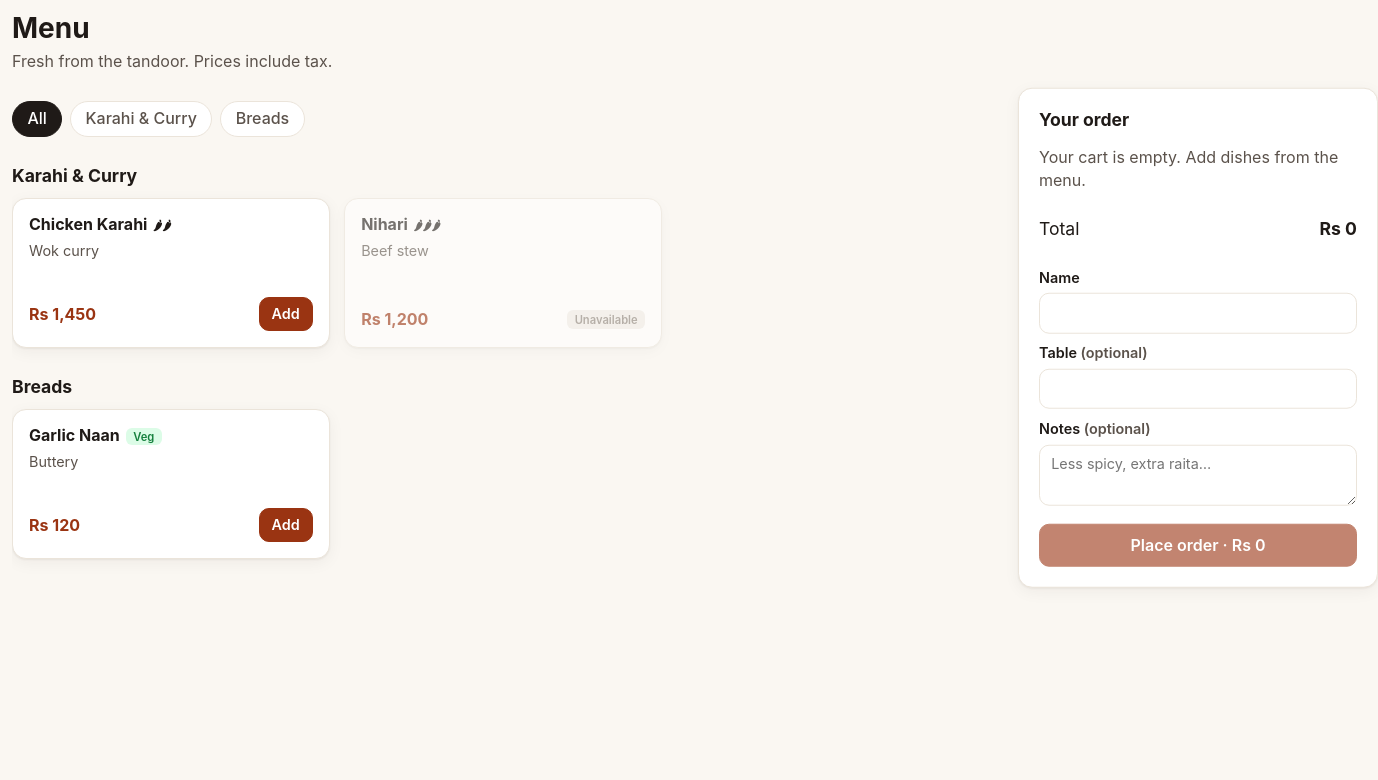
OrderPage › adds and removes items and updates the total
Click the button with aria-label "Add Chicken Karahi".
click(286, 314)  # box [258,297,313,331]
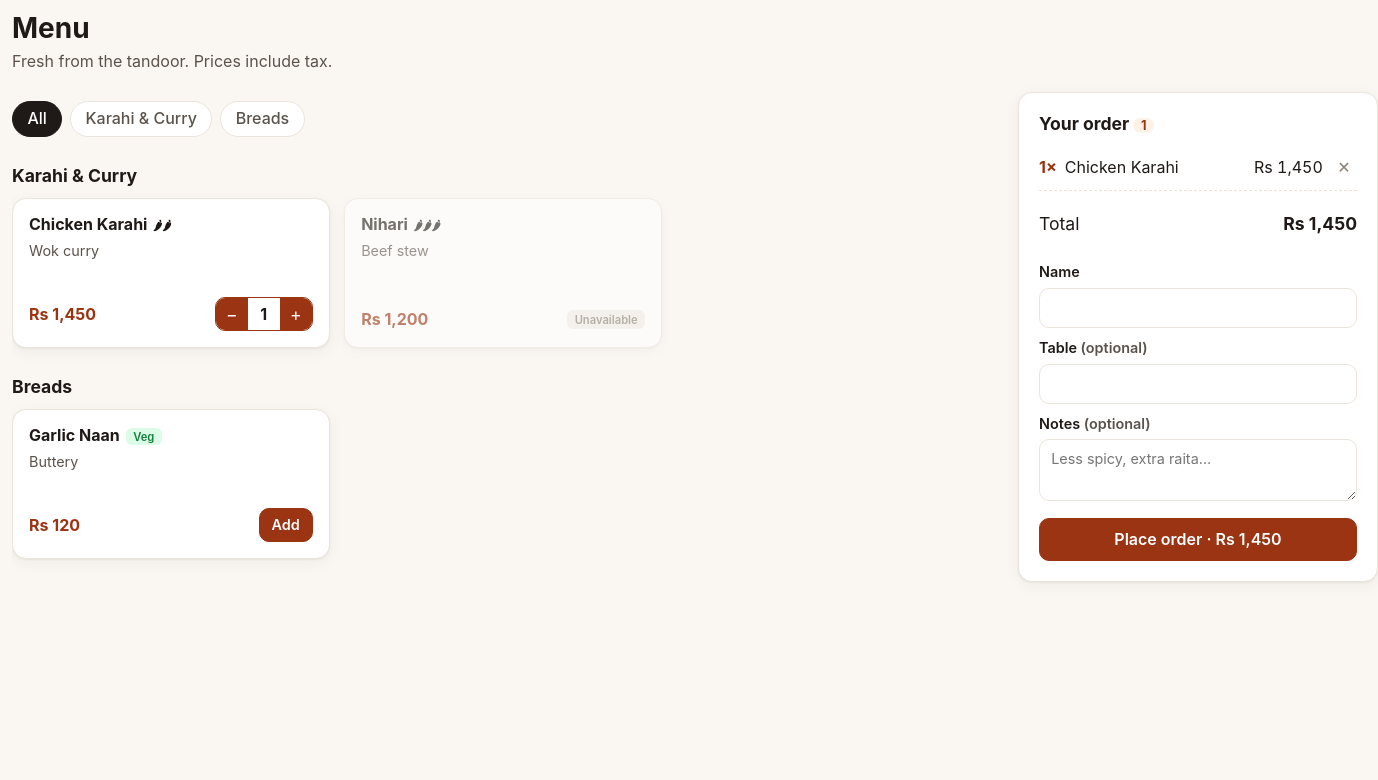
Click the button with aria-label "Add Garlic Naan".
click(286, 525)  # box [258,508,313,542]
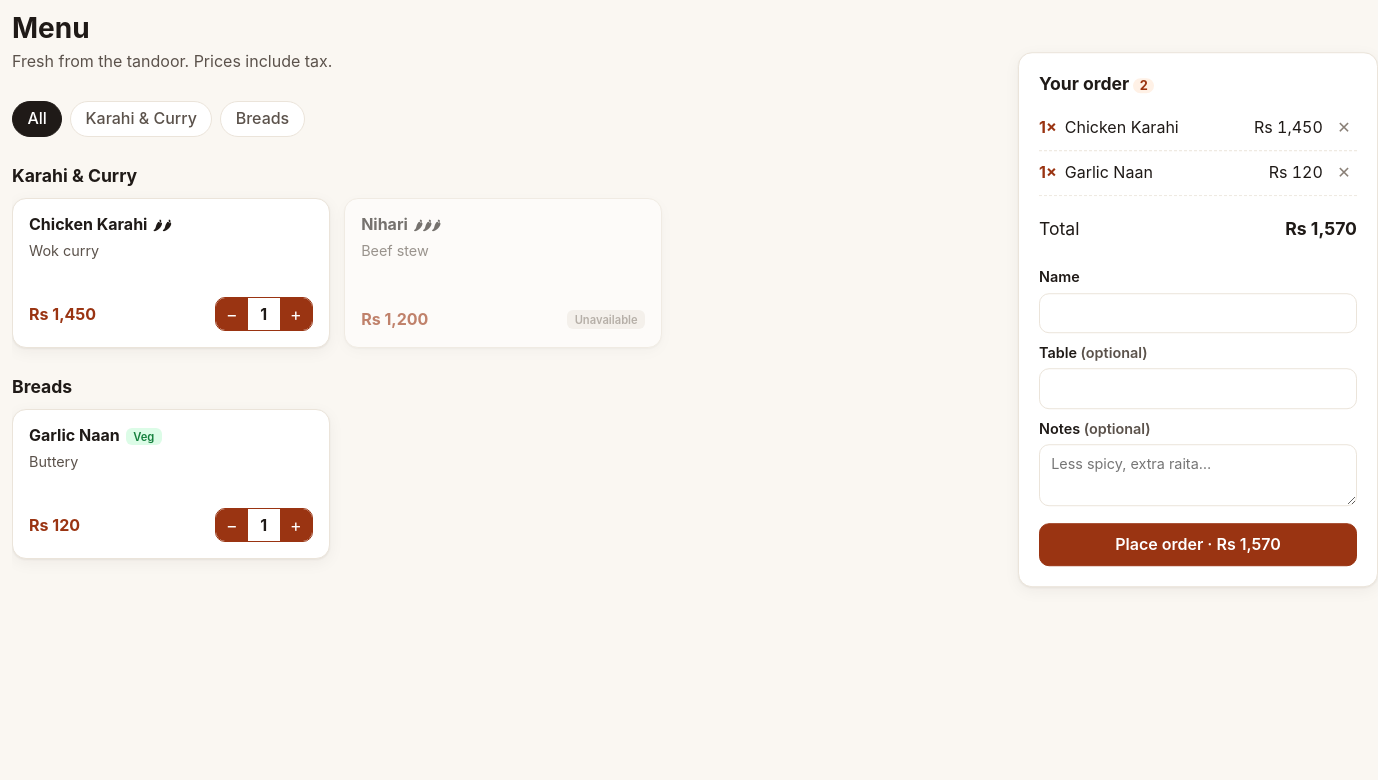
Click the button named "Add one more Garlic Naan".
click(296, 525)  # box [280,509,312,541]
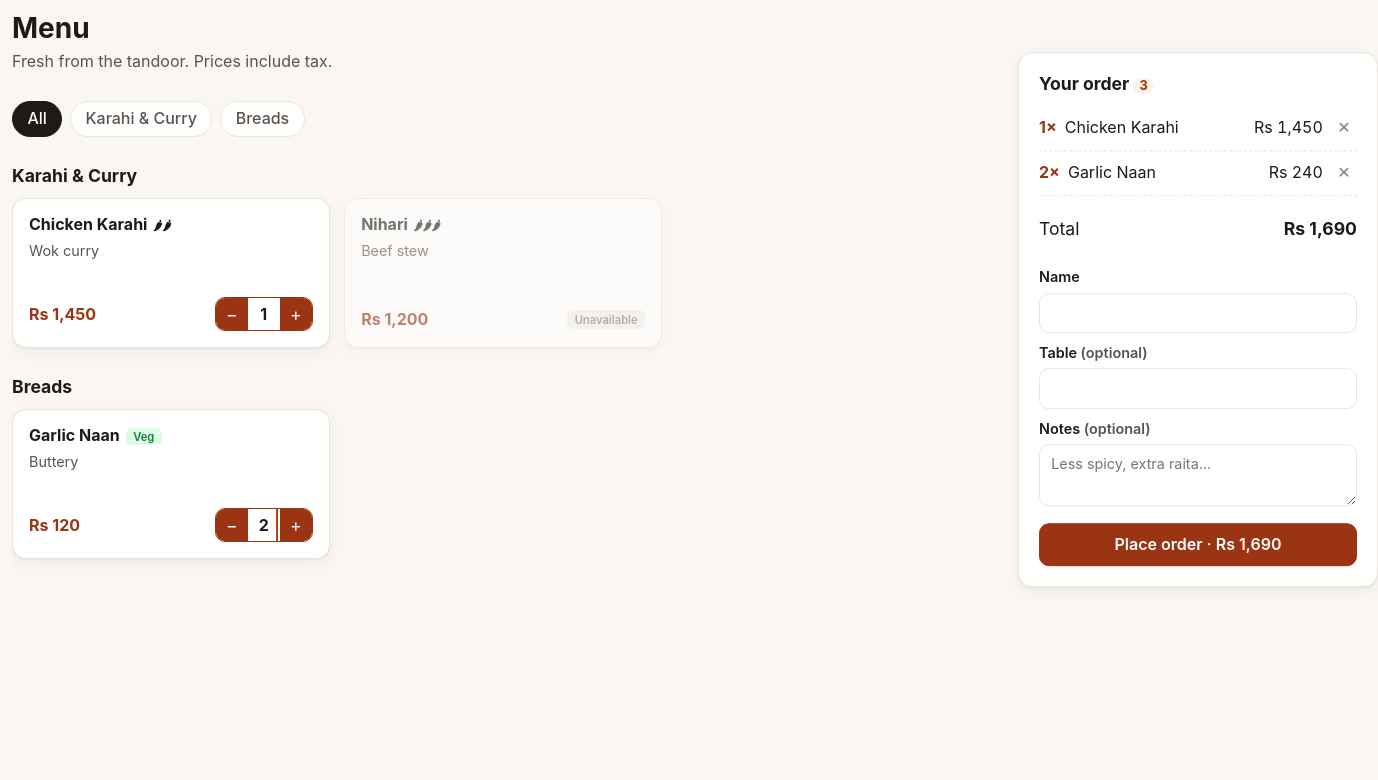
Expected: the text with test id "cart-total" reads "Rs 1,690", [1284,218,1357,239]
Click the button named "Remove one Garlic Naan".
click(232, 525)  # box [216,509,248,541]
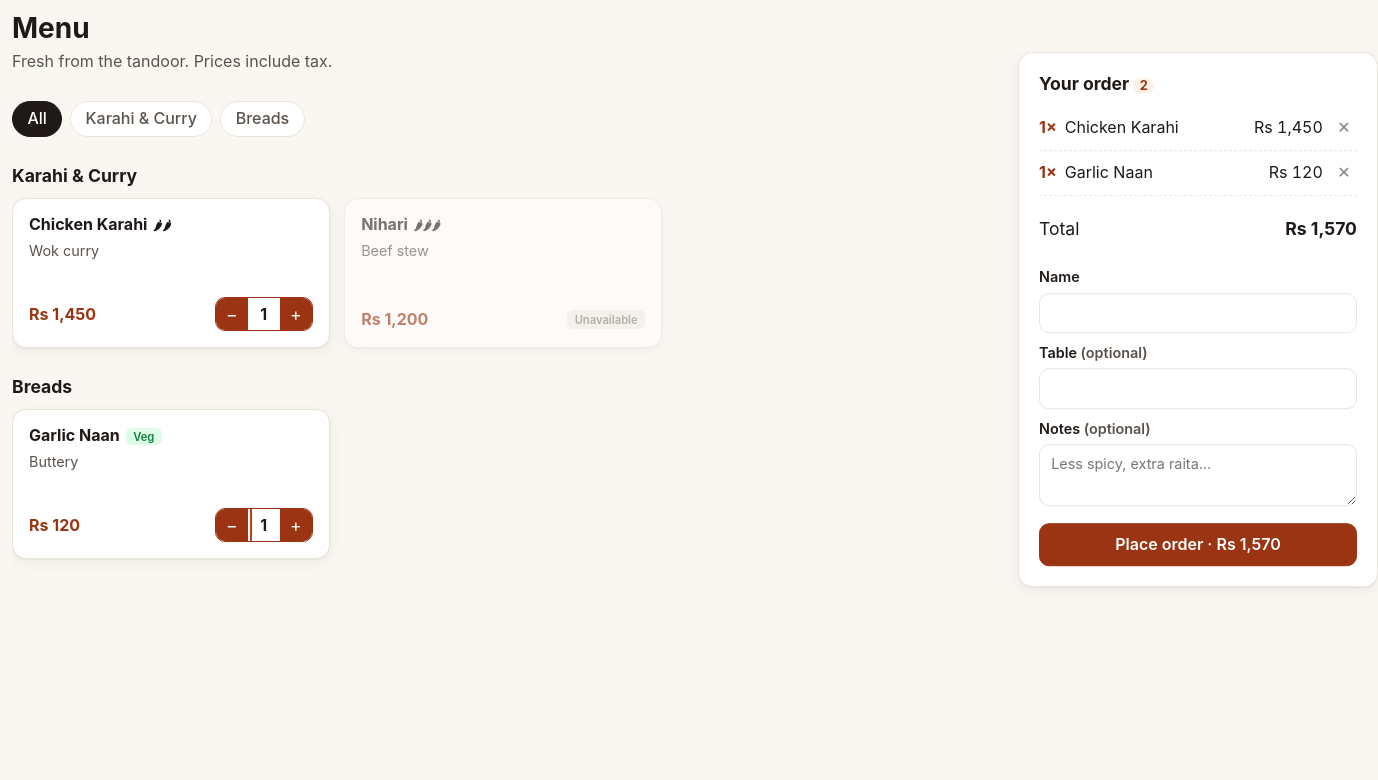
Expected: the text with test id "cart-total" reads "Rs 1,570", [1285,218,1357,239]
Click the button named "Remove Chicken Karahi".
click(1344, 128)  # box [1331,114,1357,143]
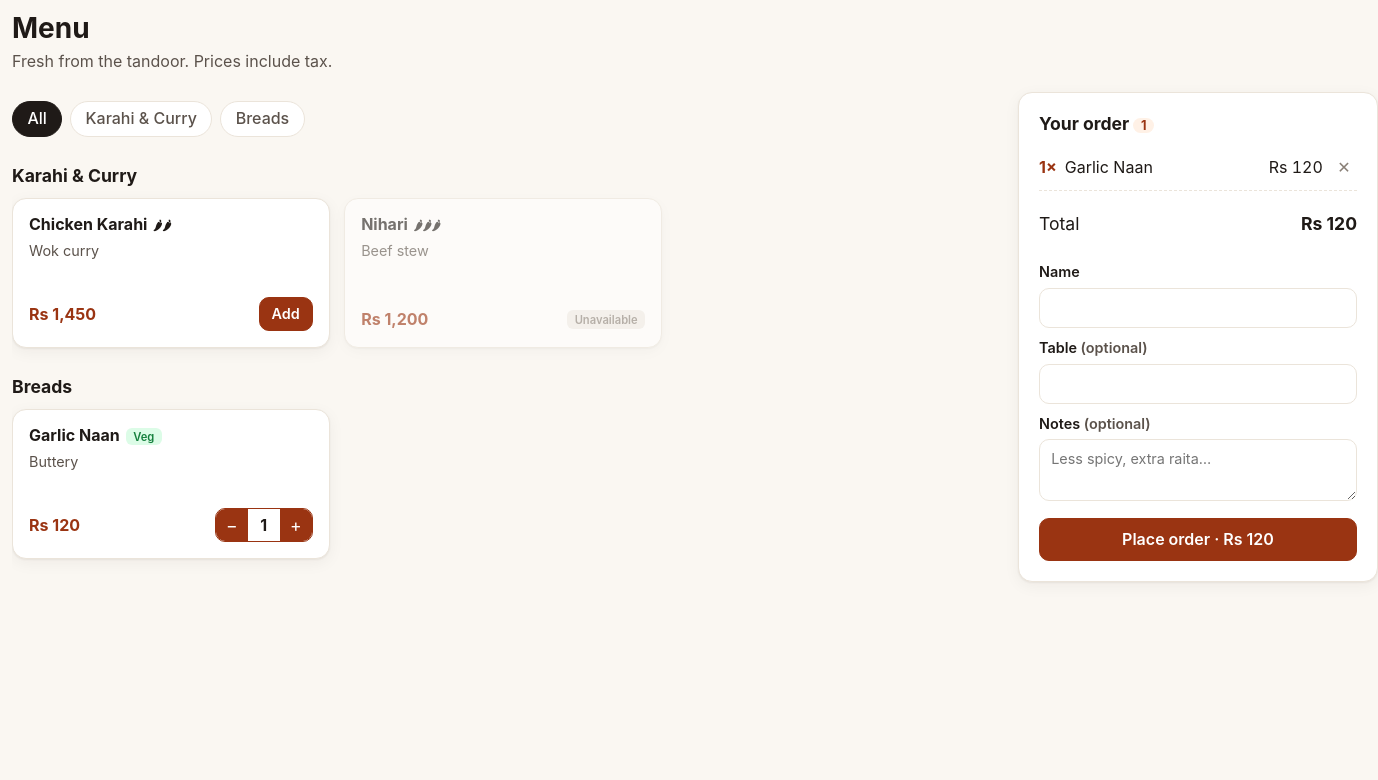
Expected: the text with test id "cart-total" in the row of "Total" reads "Rs 120", [1301,213,1357,234]
